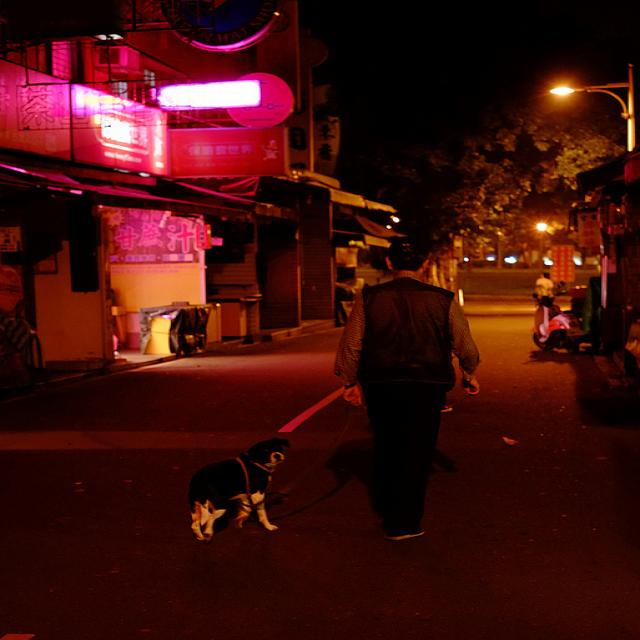People: (348, 223, 502, 555)
dog: (125, 427, 334, 564)
